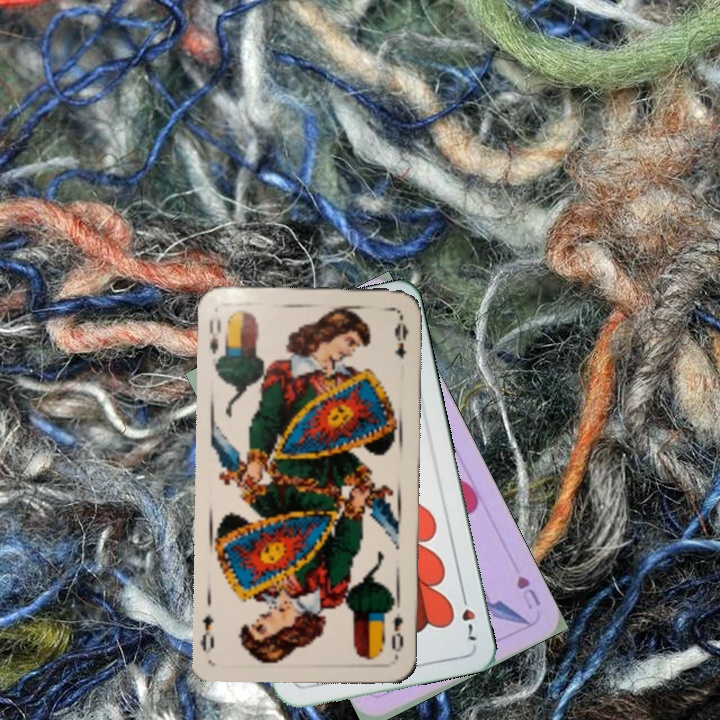EO: (387, 609, 406, 660), (205, 315, 223, 357)
H7: (457, 588, 479, 644)
HU: (512, 571, 544, 613)
